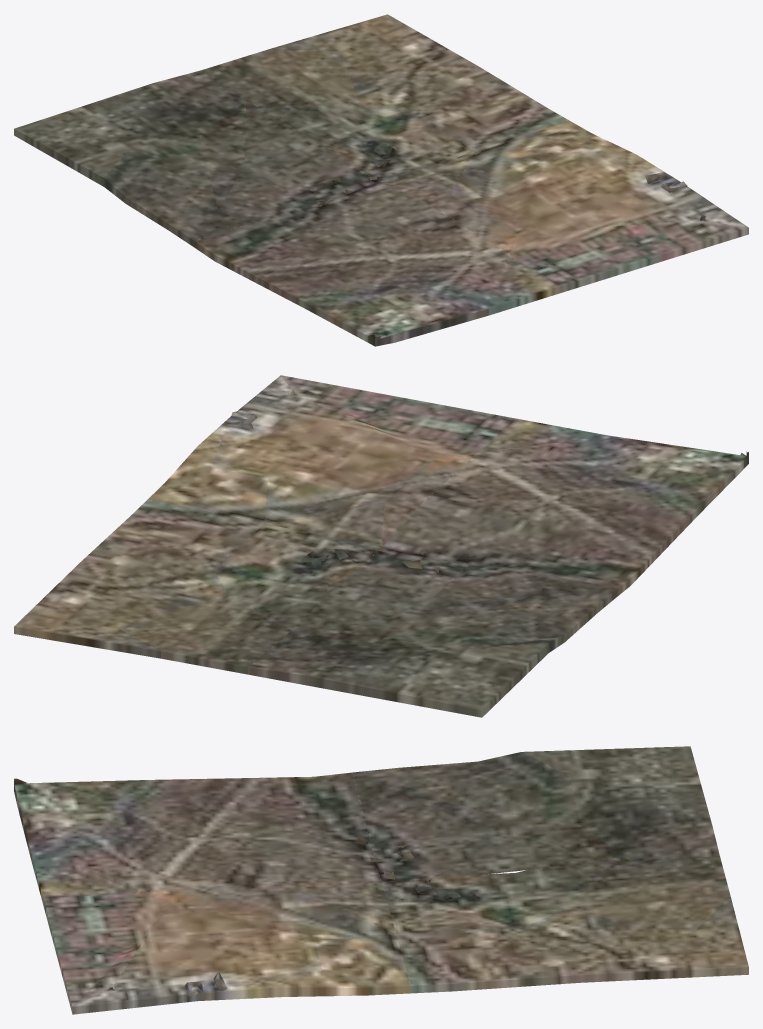
3 views of the same model, one above another, from view 1: azimuth 30°, elevation 25°; view 2: azimuth 150°, elevation 25°; view 3: azimuth 270°, elevation 25° (orthographic). The views are drawn at different scales.
Visible parts, largest first — view 1: Mesh_0; view 2: Mesh_0; view 3: Mesh_0.
Boxes of the visible parts, left/top/right/bottom form: Mesh_0: left=14, top=14, right=748, bottom=346; Mesh_0: left=14, top=375, right=748, bottom=717; Mesh_0: left=14, top=746, right=748, bottom=1014.
Size of the model in its own units: 2128 by 98.75 by 2635.
Materials: 1 (1 with a texture image).
